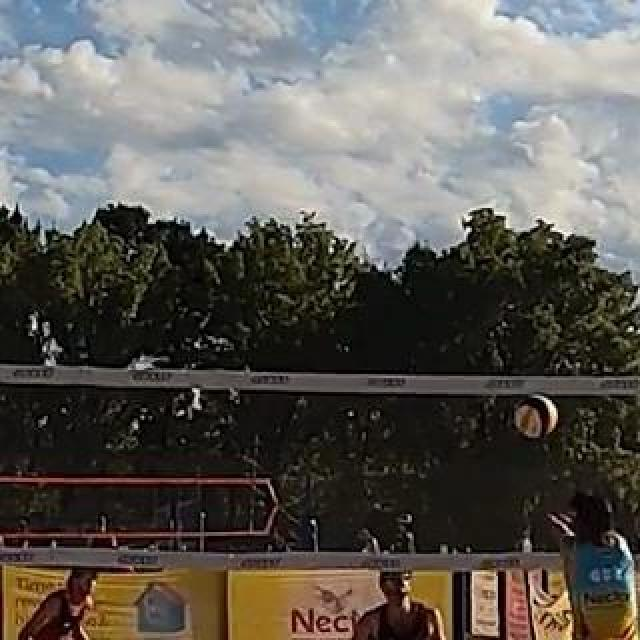volleyball: (514, 396, 558, 440)
